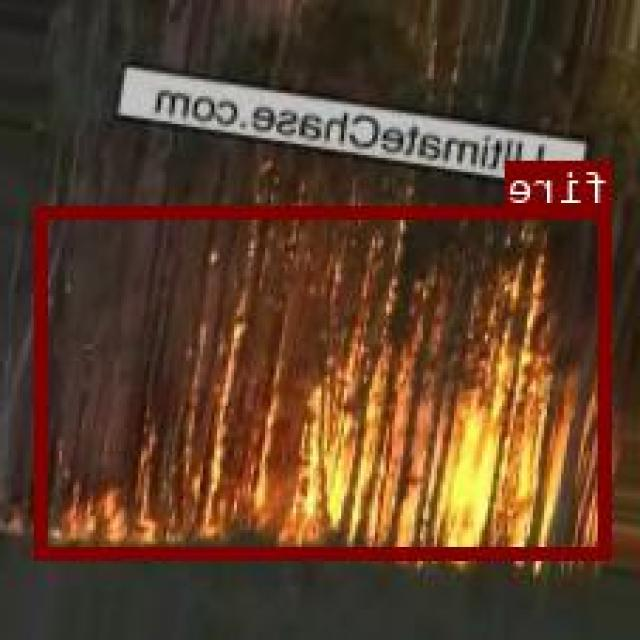fire: (40, 205, 612, 556)
